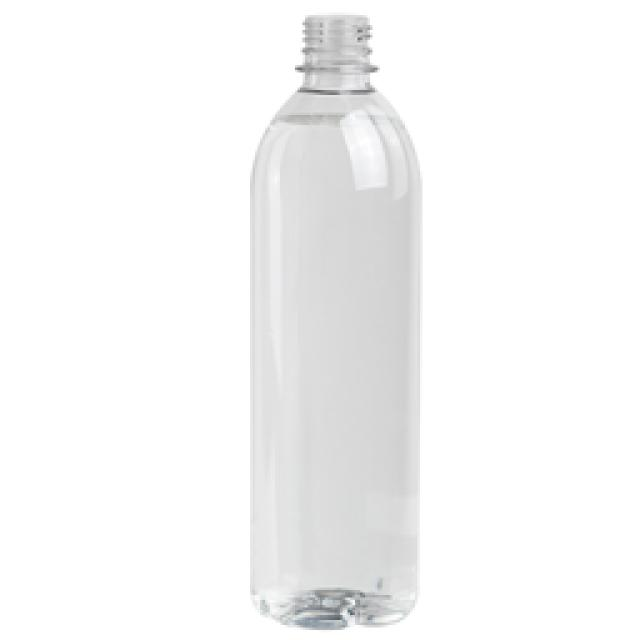plastic_water_bottles: (244, 9, 428, 628)
